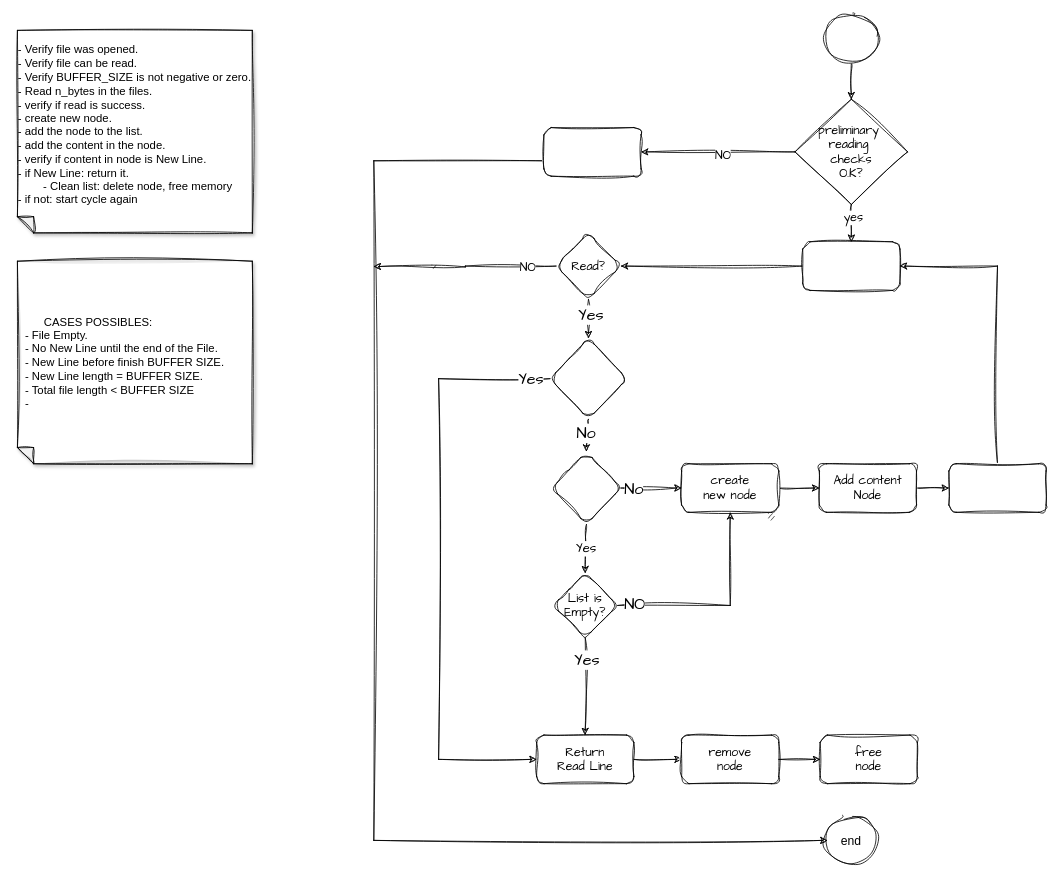
Some shapes in this 1060 by 879 pixel diagram are drawn without their labels. The centre of each missing label's shape, as x and y in pixels:
"Add node to the list" goes at [997,487].
"End of File?" goes at [588,378].
"New Line In BUff?" goes at [586,487].
"NULL" goes at [592,151].
"Read n_bytes" goes at [851,265].
"start" goes at [851,38].
